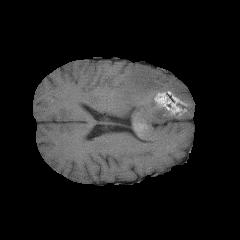glioma: (107, 66, 190, 145)
